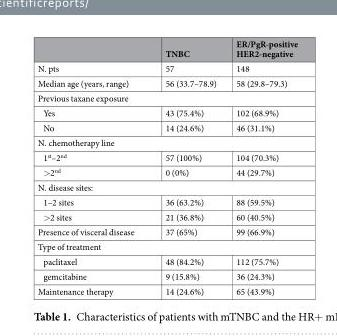table: (36, 37, 297, 296)
table column: (36, 37, 149, 296), (149, 37, 225, 296), (225, 37, 297, 296)
table column header: (36, 37, 297, 60)
table projected row header: (36, 90, 297, 105), (36, 134, 297, 149), (36, 179, 297, 194), (36, 238, 297, 253)
table row: (36, 37, 297, 60), (36, 60, 297, 75), (36, 75, 297, 90), (36, 90, 297, 105), (36, 119, 297, 134), (36, 134, 297, 149), (36, 149, 297, 164), (36, 164, 297, 179), (36, 179, 297, 194), (36, 194, 297, 209), (36, 223, 297, 238), (36, 238, 297, 253), (36, 253, 297, 268), (36, 268, 297, 283), (36, 105, 297, 119), (36, 209, 297, 223), (36, 283, 297, 296)
